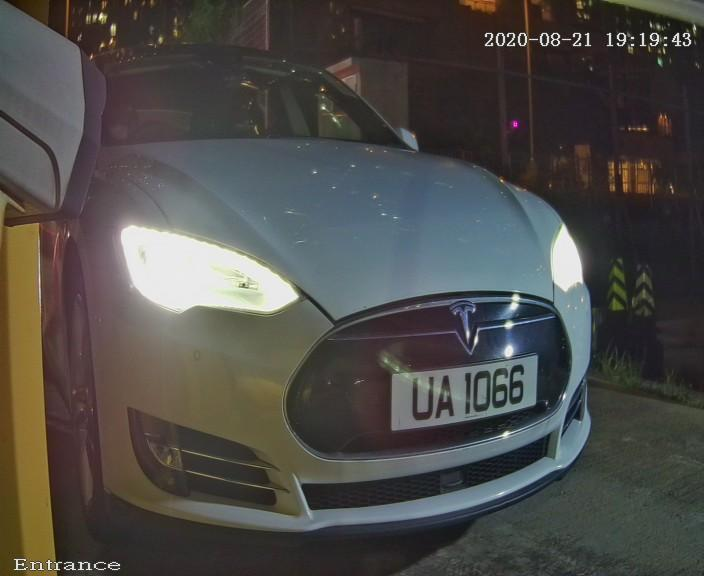Car: (4, 1, 657, 576)
License Plate: (371, 344, 554, 444)
